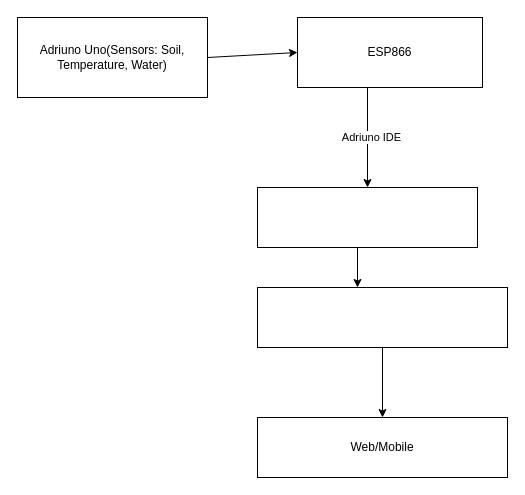
Some shapes in this 525 by 495 pixel diagram are drawn without their labels. Here are the shapes that lost their labels. From the top down, the centre of each, then its label:
At point 367,217: "Firebase Real Time Database".
At point 382,317: "Python AI Agent".
